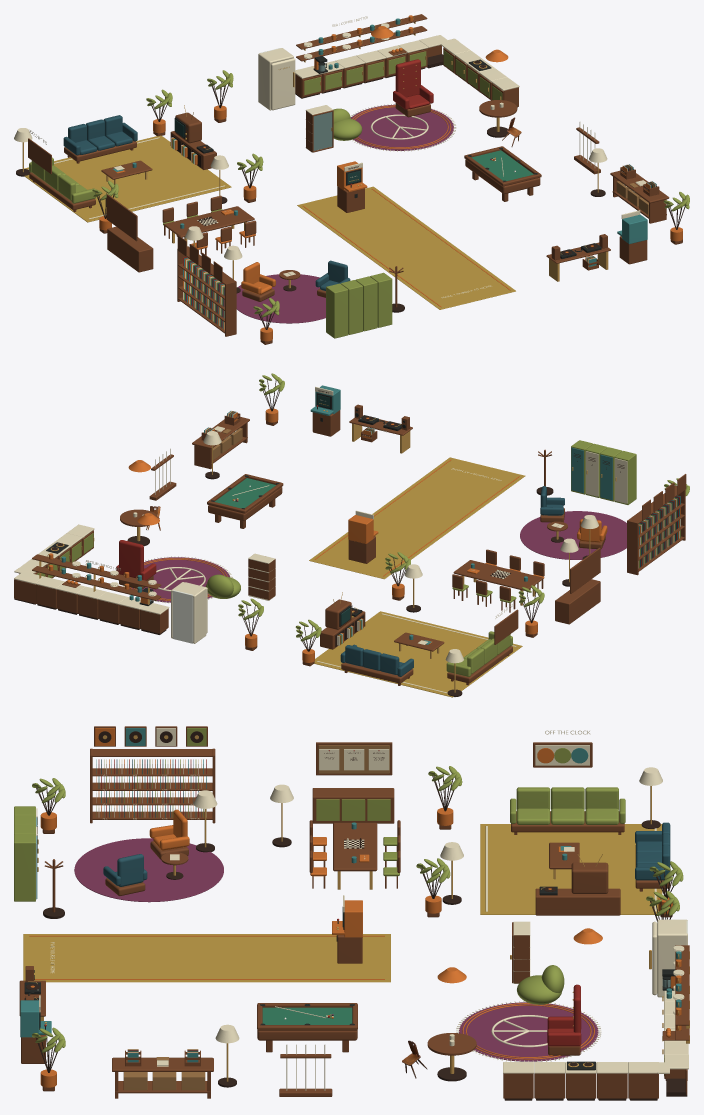
Rendered from backroom_legacy_mobile.glb.
3 views of the same model, one above another, from view 1: azimuth 30°, elevation 25°; view 2: azimuth 150°, elevation 25°; view 3: azimuth 270°, elevation 25° (orthographic). The views are drawn at different scales.
Visible parts, largest first — view 1: Entry • woven runner, Lounge • ochre rug, Round aubergine rug, Reading • circular rug, Dining sideboard, Fridge • rounded door, Staff locker 1 • body, Dining • walnut tabletop, Pool • felt bed, Red armchair • back top 1.90m, Staff locker 4 • body, Noticeboard • frame (+16 smaller); view 2: Entry • woven runner, Lounge • ochre rug, Reading • circular rug, Round aubergine rug, Dining sideboard, Dining • walnut tabletop, Fridge • back, Pool • felt bed, Red armchair • back top 1.90m, Noticeboard • frame, Curio • back, Floating walnut shelf.001 (+18 smaller); view 3: Entry • woven runner, Lounge • ochre rug, Reading • circular rug, Round aubergine rug, TV • console, Dining • walnut tabletop, Pool • felt bed, Dining sideboard, Staff locker 4 • body, CRT • walnut housing, Sorting bench • worktop, Pool • cabinet (+33 smaller).
Part boxes in pixels (x1=…): Entry • woven runner: x1=297, y1=186, x2=515, y2=309; Lounge • ochre rug: x1=24, y1=135, x2=231, y2=222; Round aubergine rug: x1=351, y1=104, x2=453, y2=150; Reading • circular rug: x1=236, y1=274, x2=325, y2=323; Dining sideboard: x1=107, y1=226, x2=153, y2=272; Fridge • rounded door: x1=270, y1=58, x2=295, y2=110; Staff locker 1 • body: x1=326, y1=283, x2=348, y2=338; Dining • walnut tabletop: x1=164, y1=206, x2=254, y2=237; Pool • felt bed: x1=471, y1=150, x2=533, y2=180; Red armchair • back top 1.90m: x1=395, y1=59, x2=420, y2=97; Staff locker 4 • body: x1=370, y1=272, x2=392, y2=327; Noticeboard • frame: x1=106, y1=194, x2=137, y2=241; Entry • woven runner: x1=309, y1=457, x2=525, y2=579; Lounge • ochre rug: x1=314, y1=611, x2=522, y2=697; Reading • circular rug: x1=520, y1=511, x2=626, y2=559; Round aubergine rug: x1=129, y1=557, x2=229, y2=602; Dining sideboard: x1=555, y1=579, x2=600, y2=624; Dining • walnut tabletop: x1=453, y1=560, x2=543, y2=590; Fridge • back: x1=172, y1=590, x2=193, y2=643; Pool • felt bed: x1=214, y1=478, x2=275, y2=508; Red armchair • back top 1.90m: x1=119, y1=540, x2=143, y2=578; Noticeboard • frame: x1=570, y1=547, x2=600, y2=593; Curio • back: x1=248, y1=559, x2=269, y2=599; Floating walnut shelf.001: x1=32, y1=554, x2=161, y2=589; Entry • woven runner: x1=23, y1=934, x2=390, y2=982; Lounge • ochre rug: x1=480, y1=824, x2=662, y2=914; Reading • circular rug: x1=74, y1=838, x2=223, y2=902; Round aubergine rug: x1=459, y1=1002, x2=598, y2=1061; TV • console: x1=535, y1=888, x2=620, y2=915; Dining • walnut tabletop: x1=333, y1=822, x2=377, y2=871; Pool • felt bed: x1=262, y1=1007, x2=352, y2=1024; Dining sideboard: x1=312, y1=788, x2=394, y2=823; Staff locker 4 • body: x1=14, y1=834, x2=35, y2=901; CRT • walnut housing: x1=571, y1=862, x2=608, y2=893; Sorting bench • worktop: x1=112, y1=1057, x2=213, y2=1071; Pool • cabinet: x1=257, y1=1030, x2=357, y2=1040.
Bounding box in the file's own units: 19.96 × 3.44 × 19.87.
Materials: 21 (2 with a texture image).
